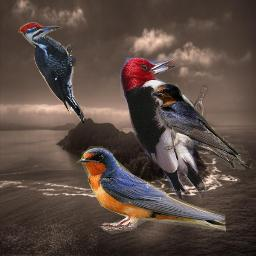Swallow: (76, 145, 226, 236), (151, 83, 254, 172)
Woodpecker: (120, 57, 208, 199), (18, 22, 84, 124)
